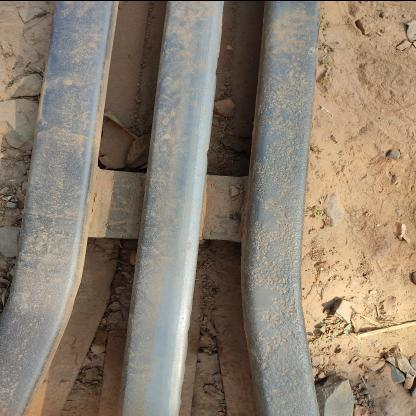Non Defective: (71, 7, 415, 414)
